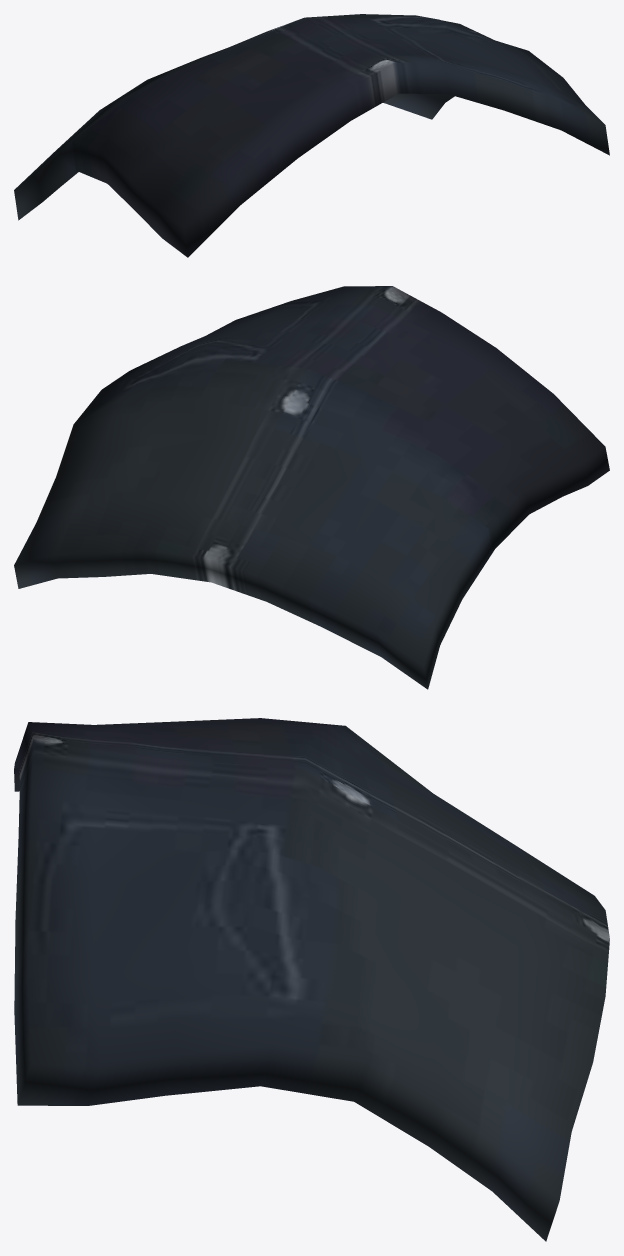
Rendered from New-Dada-Tebal2.fbx.
3 views of the same model, one above another, from view 1: azimuth 30°, elevation 25°; view 2: azimuth 150°, elevation 25°; view 3: azimuth 270°, elevation 25° (orthographic). The views are drawn at different scales.
Parts seen in each view (by area): view 1: Wolf3D_Outfit_Top.002; view 2: Wolf3D_Outfit_Top.002; view 3: Wolf3D_Outfit_Top.002.
Boxes of the visible parts, x1,y1,x2,y2 form: Wolf3D_Outfit_Top.002: (14, 14, 609, 257); Wolf3D_Outfit_Top.002: (14, 286, 609, 689); Wolf3D_Outfit_Top.002: (14, 718, 609, 1241).
Bounding box in the file's own units: 25.88 × 13.27 × 20.47.
Materials: 1 (1 with a texture image).
